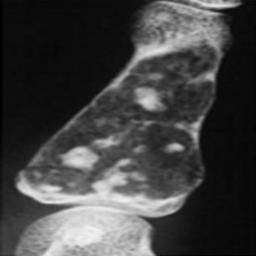cancer: (15, 0, 232, 219)
